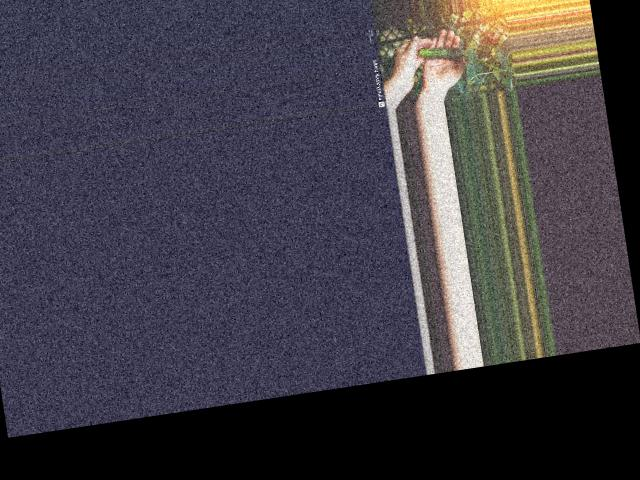cucumber: (417, 42, 462, 64)
